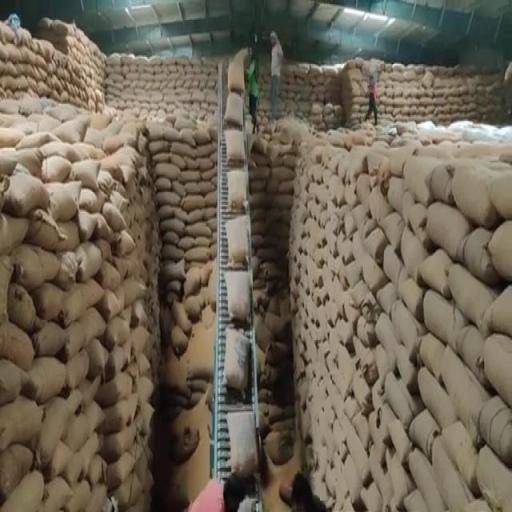c-belt-sack-count: (223, 327, 249, 395), (225, 270, 250, 322), (227, 215, 248, 267), (225, 130, 246, 164), (224, 92, 243, 129)
